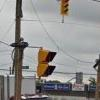Traffic light: (29, 39, 65, 79)
